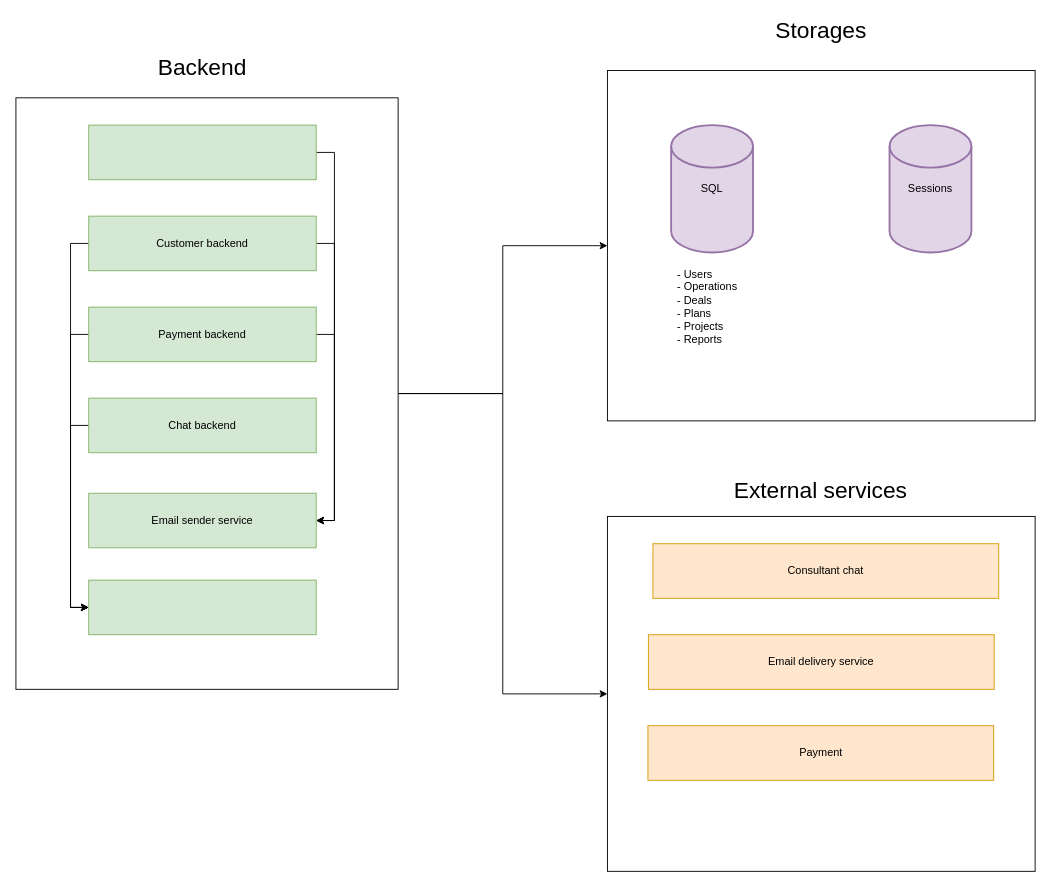
The diagram is 1051 pixels wide and 887 high, and some of its shapes have lost their labels. The centre of each missing label's shape, as x and y in pixels:
Authentification API: point 202,152
Notification service: point 202,607
